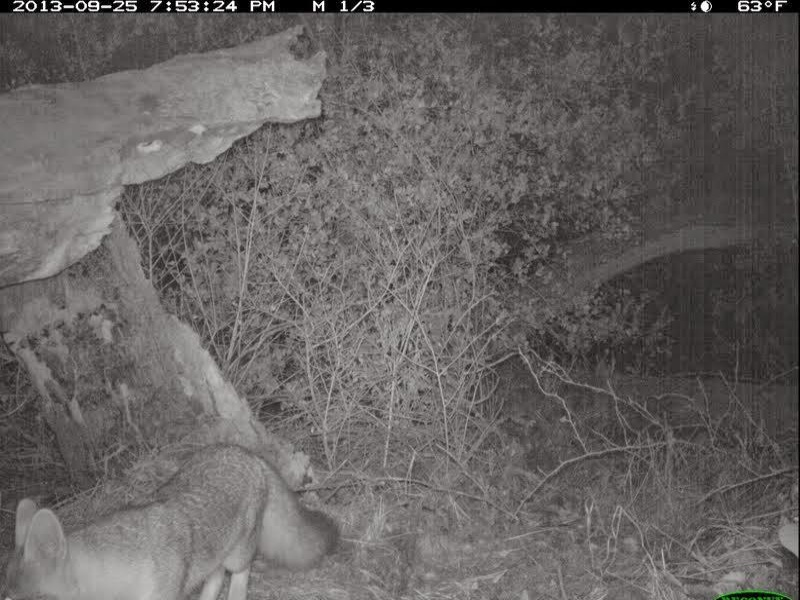coyote: (1, 439, 345, 599)
